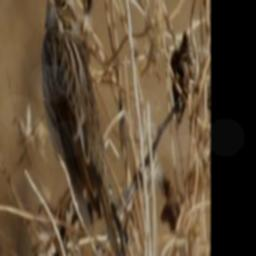Sparrow: (39, 0, 128, 256)
